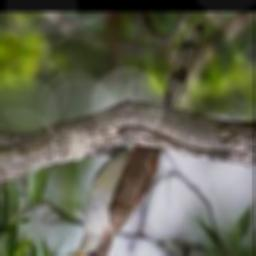Cuckoo: (62, 24, 205, 256)
